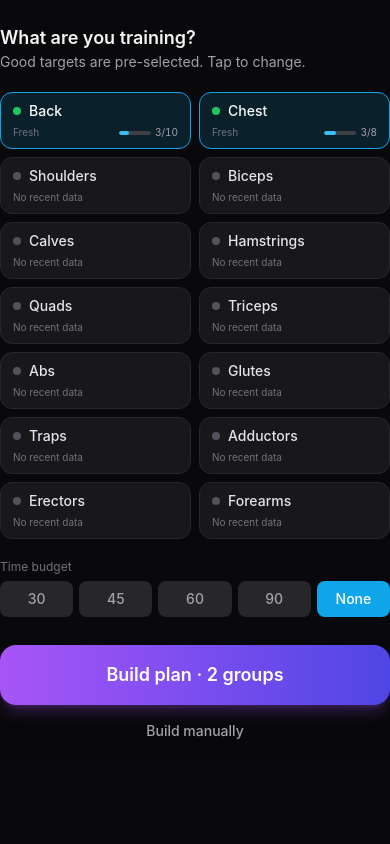
WorkoutSetupFlow › with the network off, Start keeps the plan and explains
The image size is (390, 844).
What coordinates should you click on to do the following:
click the button with test id "setup-build-plan"
I would click on:
 (195, 675)
Its box is x1=0 y1=645 x2=389 y2=705.
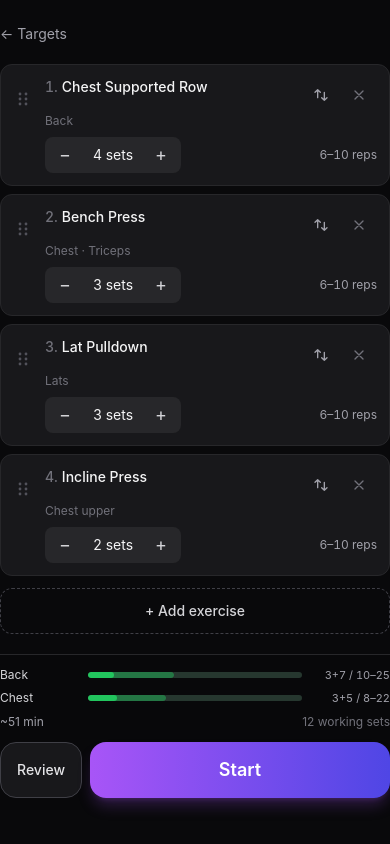
What coordinates should you click on to do the following:
click the button with test id "setup-start"
I would click on:
 (240, 770)
Its box is x1=90 y1=742 x2=389 y2=798.
(page scrolled)
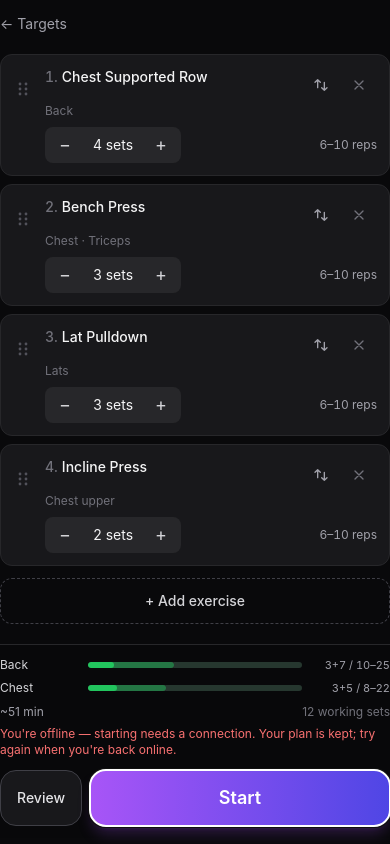
Expected: the element with test id "setup-draft-editor" is shown
Expected: the text with test id "setup-start-error" shows "offline", x1=0 y1=726 x2=375 y2=757
